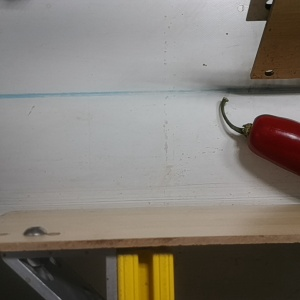Cut Point: (237, 113, 276, 153)
